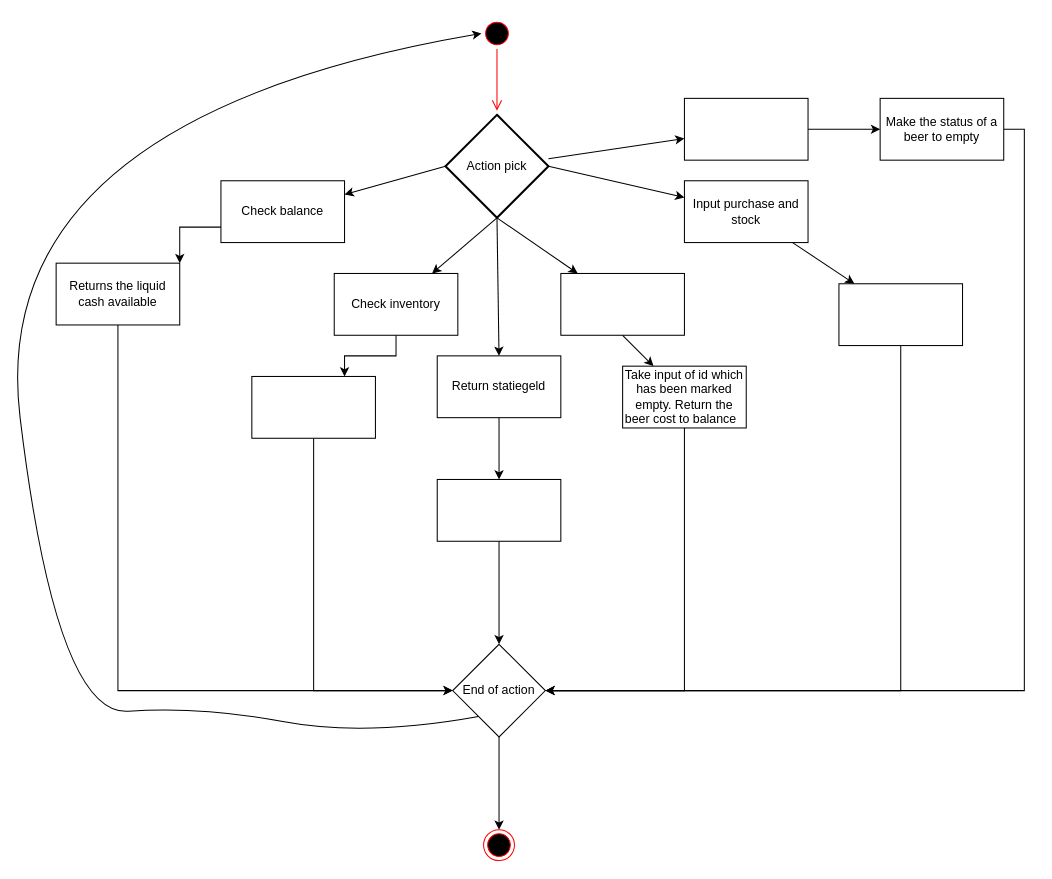
The diagram is 1052 pixels wide and 879 high, and some of its shapes have lost their labels. The centre of each missing label's shape, as x and y in pixels:
Input beer name, quantity, beer cost, statiegeld, purchase date: (900,314)
Mark as empty: (745,128)
Returns list of available beers: (313,406)
Settle beer cost: (622,303)
Take input of id and puts statiegeld back in balance: (498,509)
